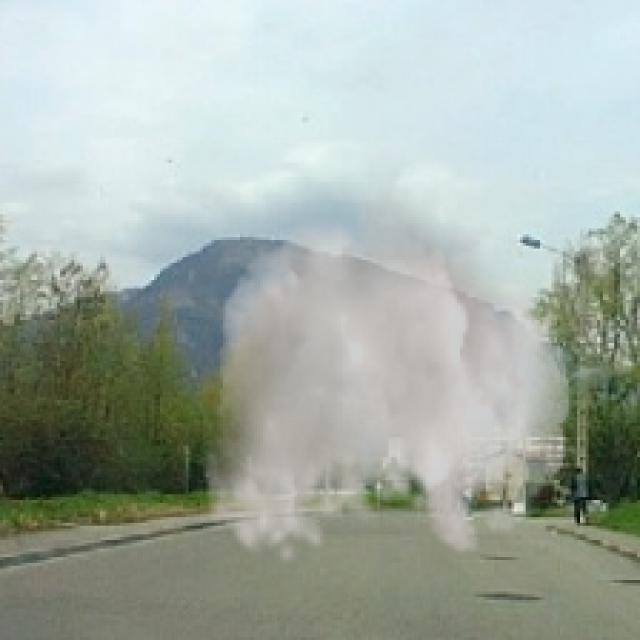smoke: (203, 168, 571, 568)
